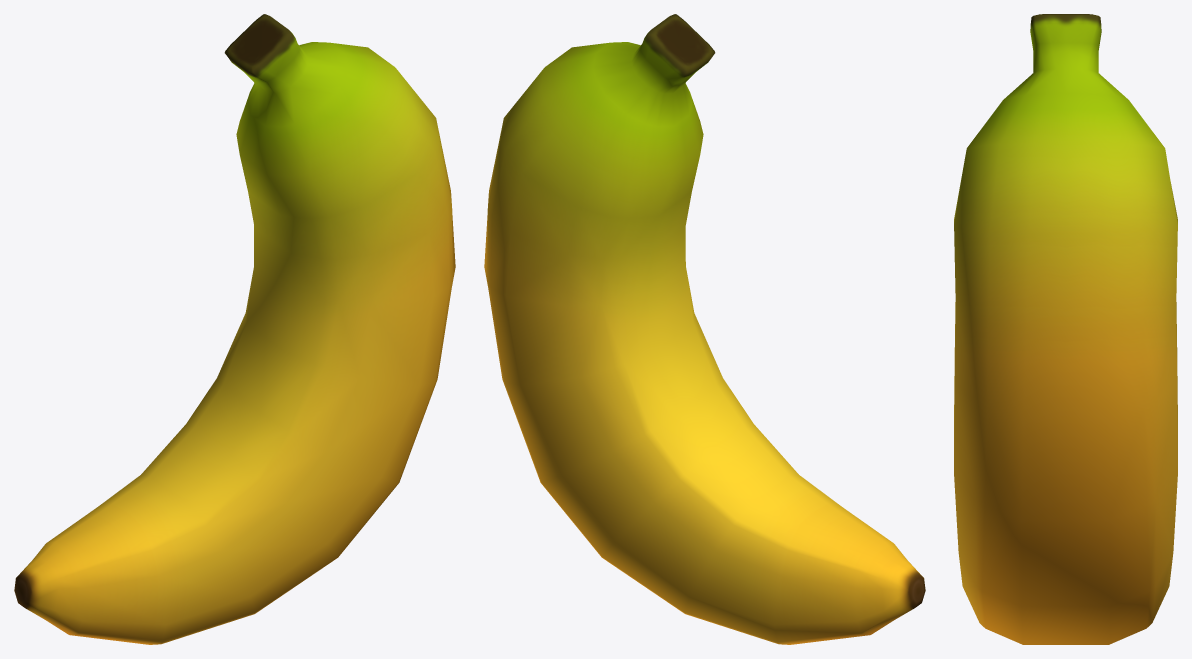
The model's file is banana.obj.
The picture shows the model from 3 angles, left to right: view 1: azimuth 30°, elevation 25°; view 2: azimuth 150°, elevation 25°; view 3: azimuth 270°, elevation 25°; orthographic projection. The views are drawn at different scales.
Visible parts, largest first — view 1: Banana; view 2: Banana; view 3: Banana.
Part boxes in pixels (bbox=[...]): Banana: bbox=[14, 14, 455, 644]; Banana: bbox=[484, 14, 925, 644]; Banana: bbox=[954, 14, 1177, 644].
Bounding box in the file's own units: 0.8121 × 1.07 × 0.3248.
Materials: 1 (1 with a texture image).
